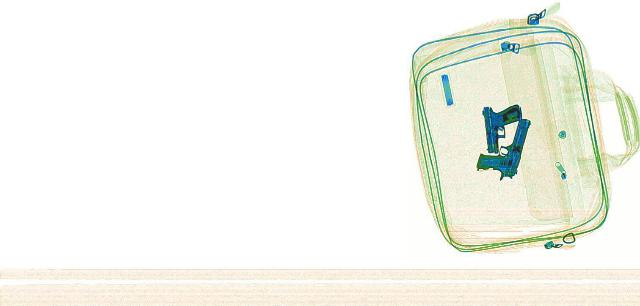Gun: (472, 116, 532, 176), (479, 103, 527, 153)
